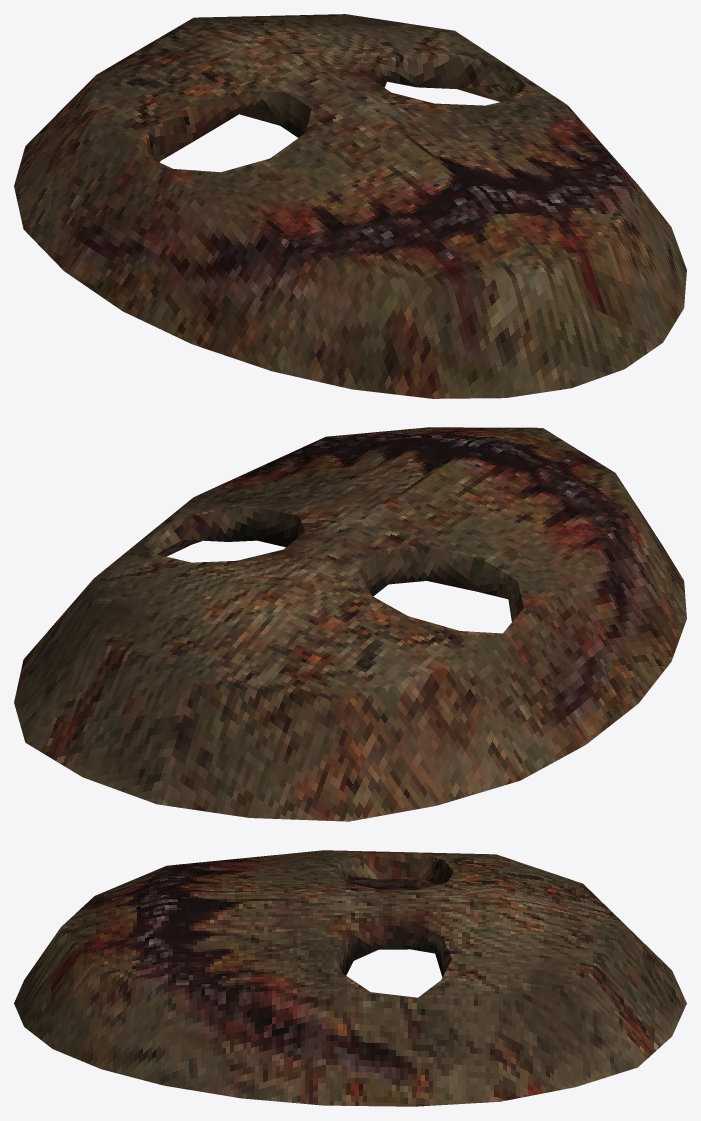
The model's file is mask_mx_2.glb.
The picture shows the model from 3 angles, top to bottom: view 1: azimuth 30°, elevation 25°; view 2: azimuth 150°, elevation 25°; view 3: azimuth 270°, elevation 25°; orthographic projection. The views are drawn at different scales.
Visible parts, largest first — view 1: mask_mx_2; view 2: mask_mx_2; view 3: mask_mx_2.
Part boxes in pixels (x1=…): mask_mx_2: x1=14, y1=14, x2=686, y2=398; mask_mx_2: x1=14, y1=427, x2=686, y2=821; mask_mx_2: x1=14, y1=850, x2=686, y2=1106.
Bounding box in the file's own units: 0.2322 × 0.0554 × 0.3198.
1 material, 1 textured.
